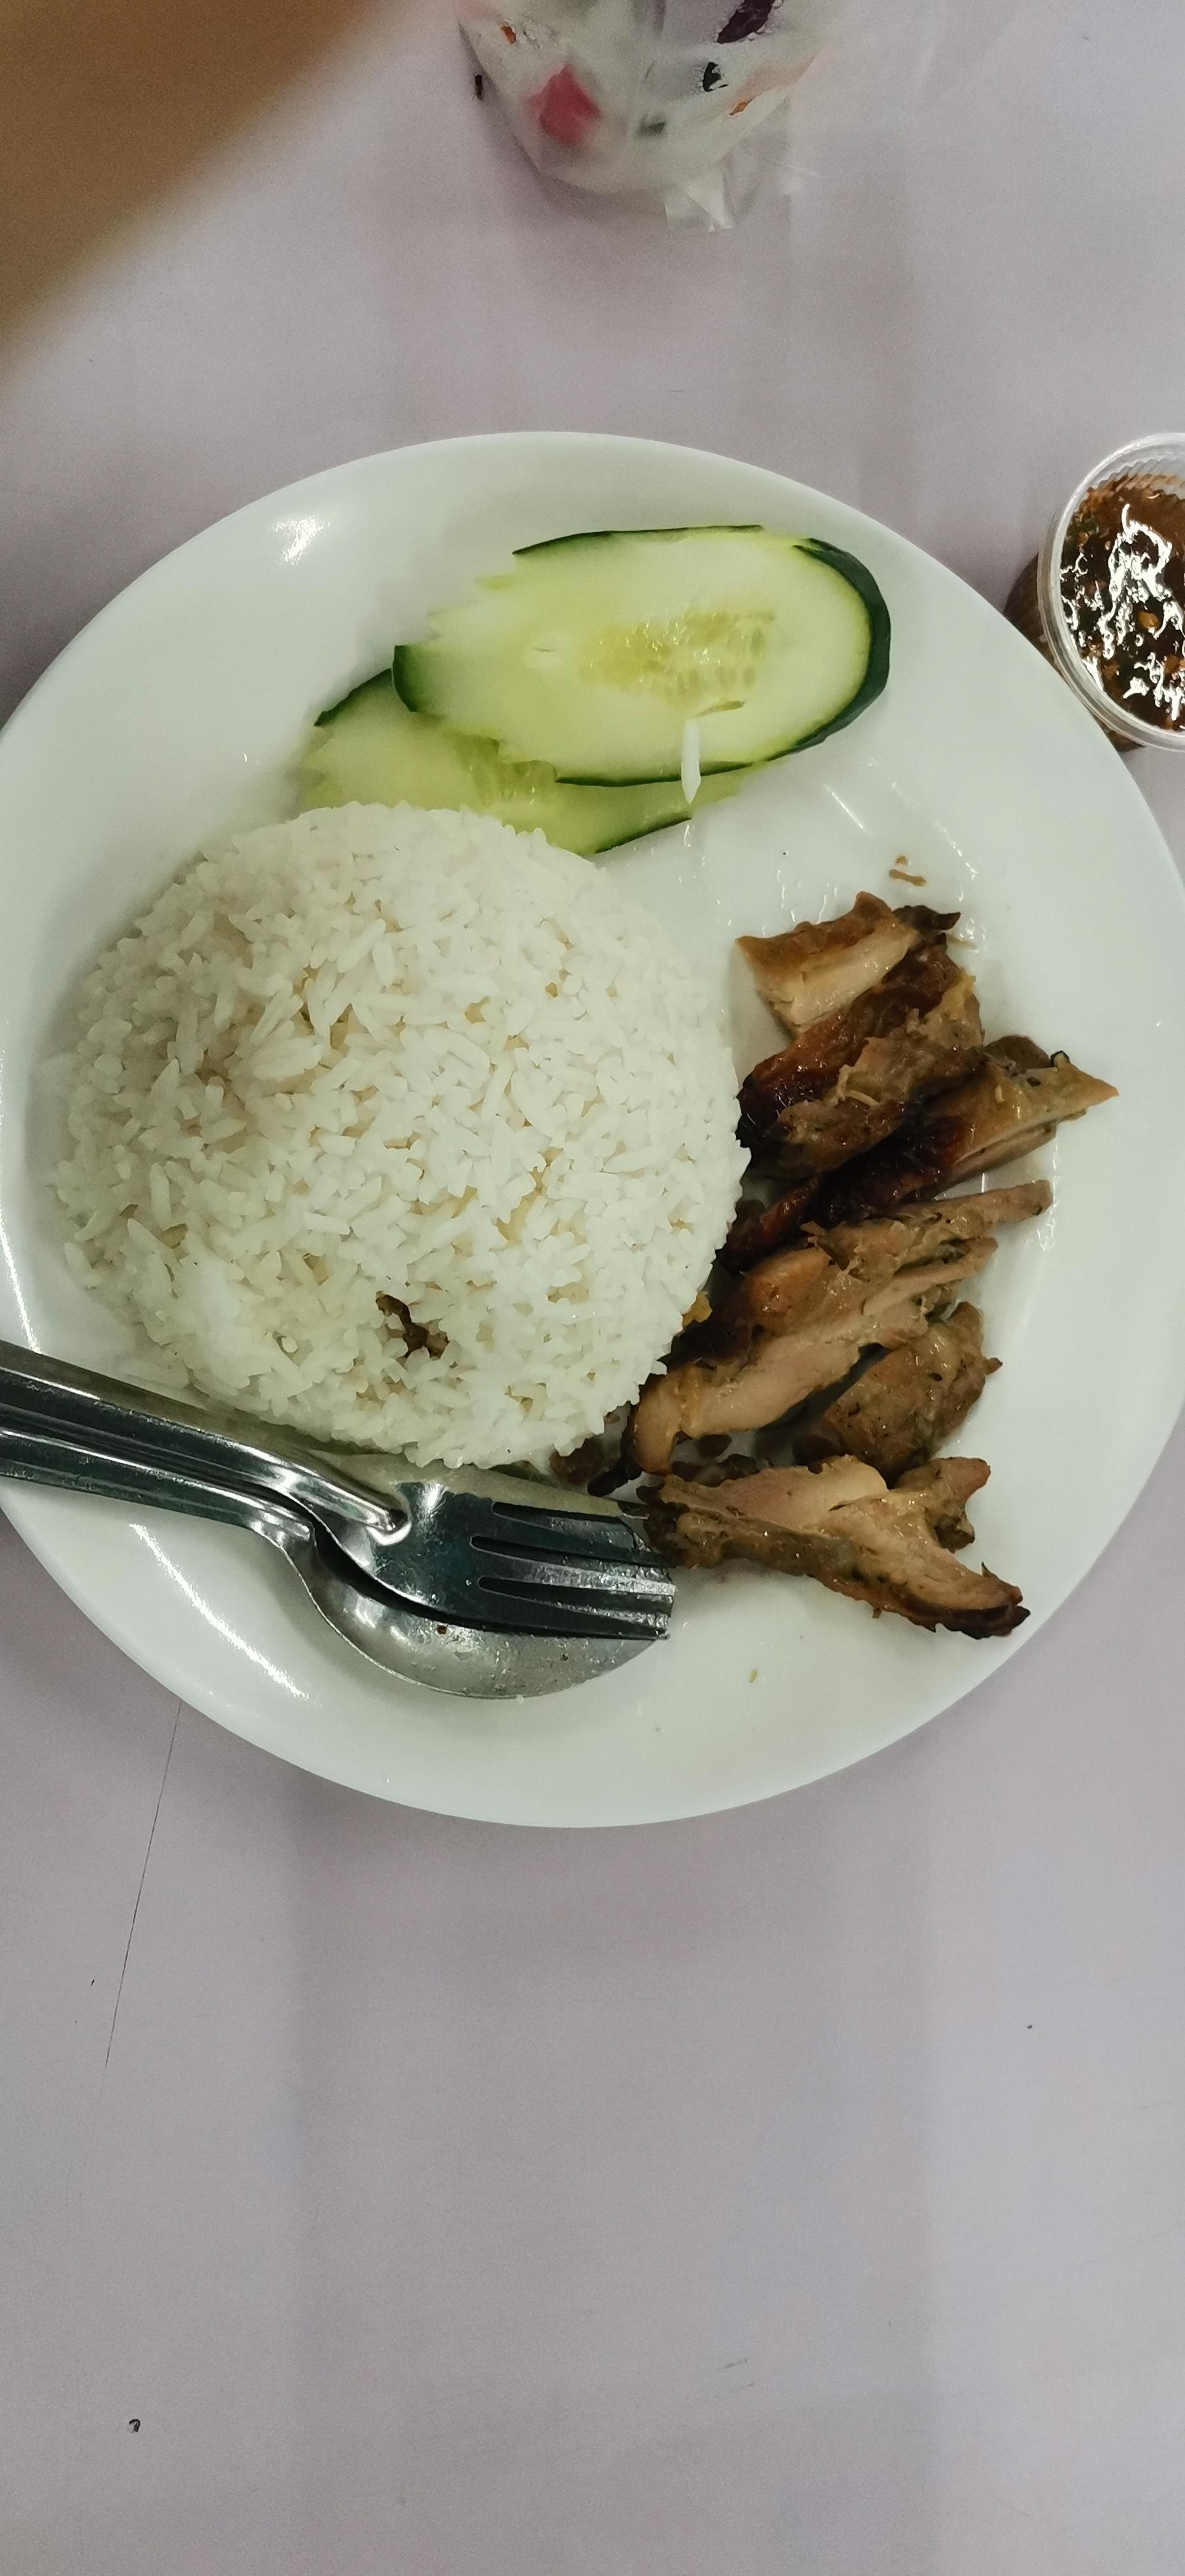carbohydrate: (39, 798, 741, 1459)
meat: (682, 882, 1098, 1649)
vegetable: (293, 516, 889, 856)
